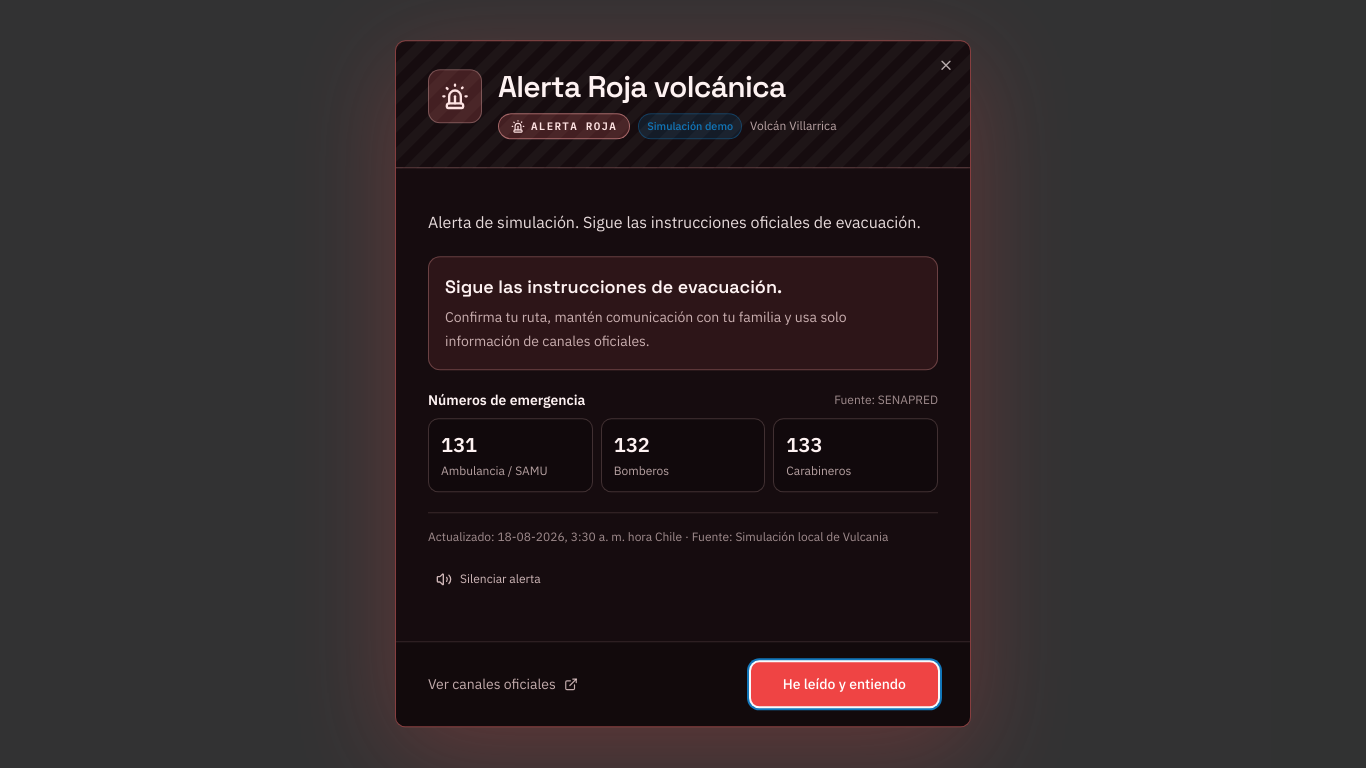
Test: EmergencyModal › alterna el sonido de la alerta desde la modal
The image size is (1366, 768).
Expected: the dialog is shown, top-left (395, 40), bottom-right (971, 728)
Click the button "Silenciar alerta" at (488, 580), box top-left (428, 558), bottom-right (549, 602)
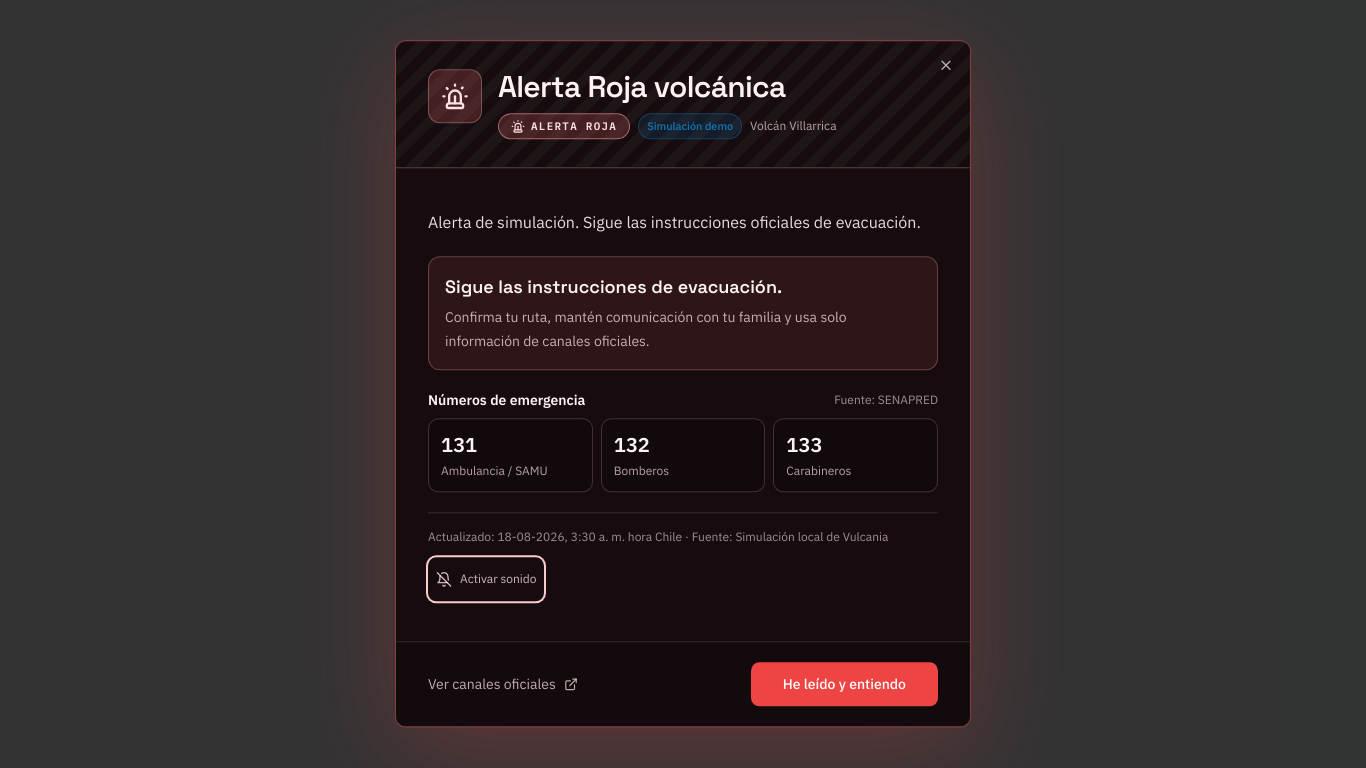
Now the button "Activar sonido" is shown
Click the button "Activar sonido" at (486, 580), box top-left (428, 558), bottom-right (544, 602)
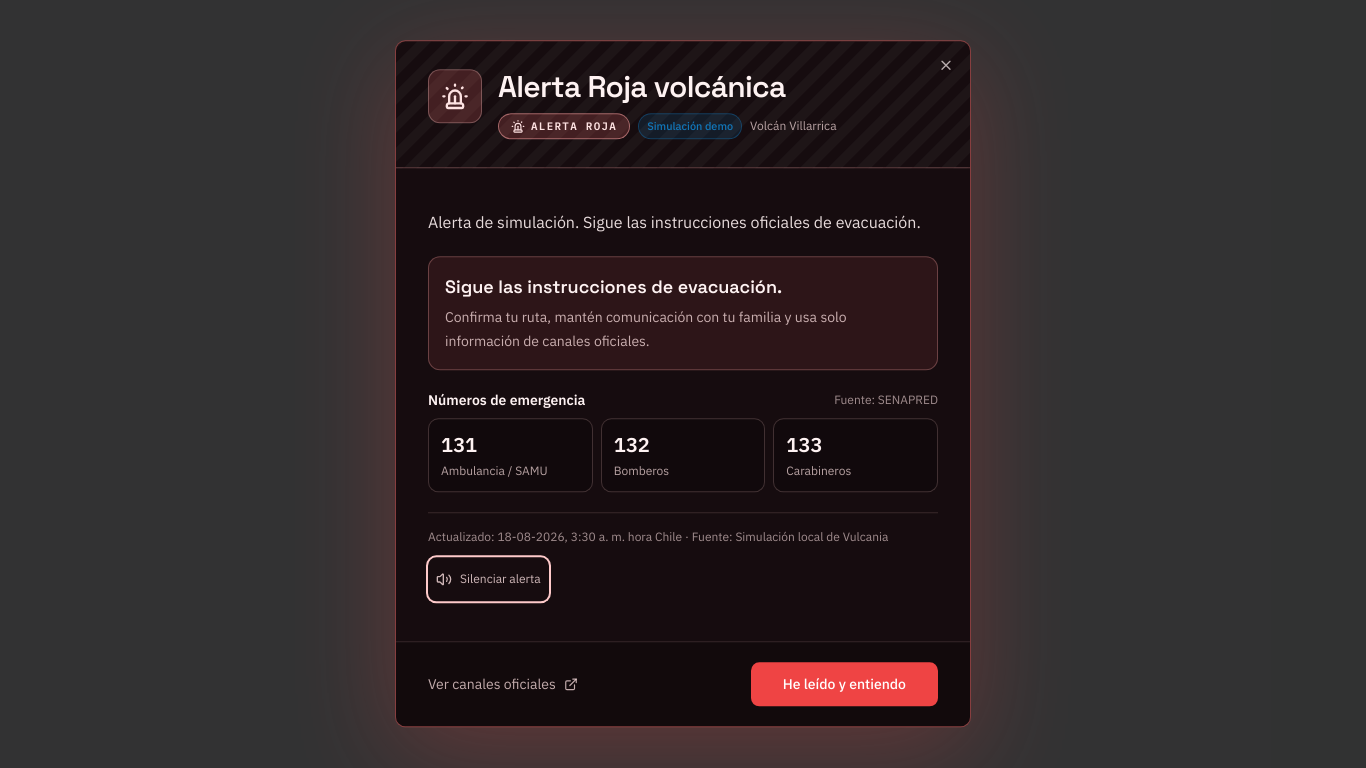
Now the button "Silenciar alerta" is shown, box top-left (428, 558), bottom-right (549, 602)
